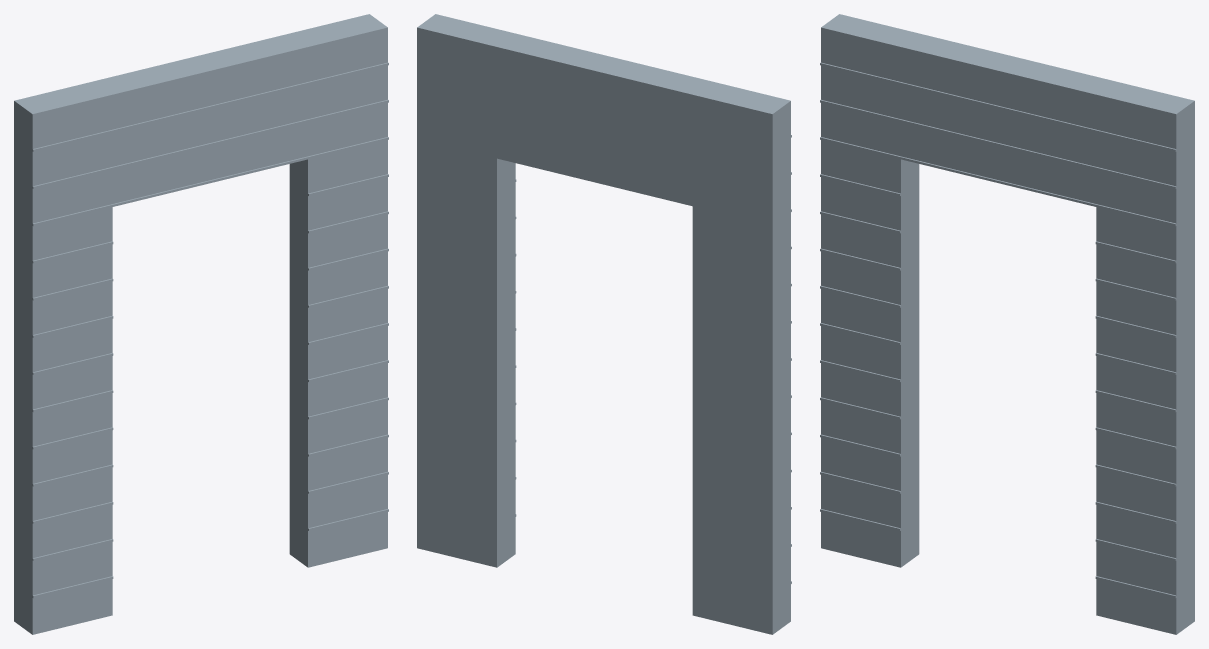
The model's file is SM_Wall_Entry_2m.fbx.
3 renders of one model, left to right at view 1: azimuth 30°, elevation 25°; view 2: azimuth 150°, elevation 25°; view 3: azimuth 330°, elevation 25°, orthographic.
Visible parts, largest first — view 1: SM_Wall_Entry_2m; view 2: SM_Wall_Entry_2m; view 3: SM_Wall_Entry_2m.
Part boxes in pixels (x1=…): SM_Wall_Entry_2m: x1=14, y1=14, x2=388, y2=634; SM_Wall_Entry_2m: x1=417, y1=14, x2=791, y2=634; SM_Wall_Entry_2m: x1=820, y1=14, x2=1194, y2=634.
Bounding box in the file's own units: 2 × 0.188 × 2.8.
